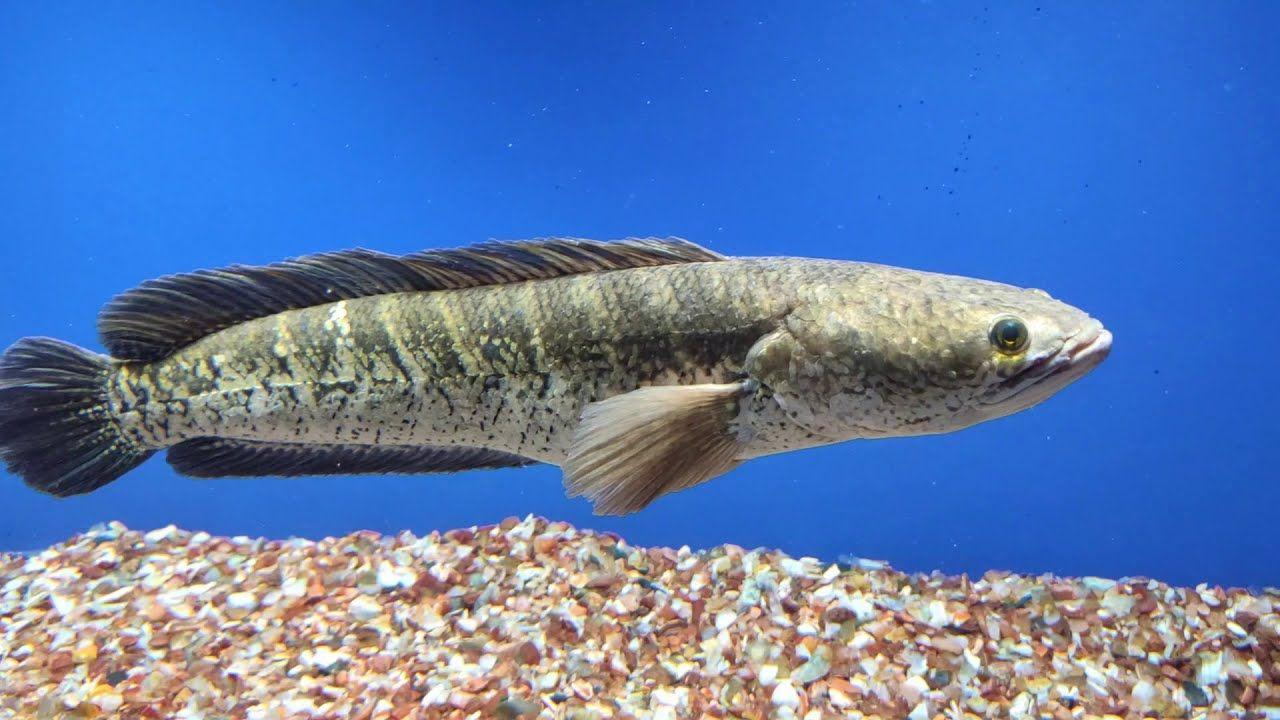Mudfish: (0, 228, 1119, 530)
